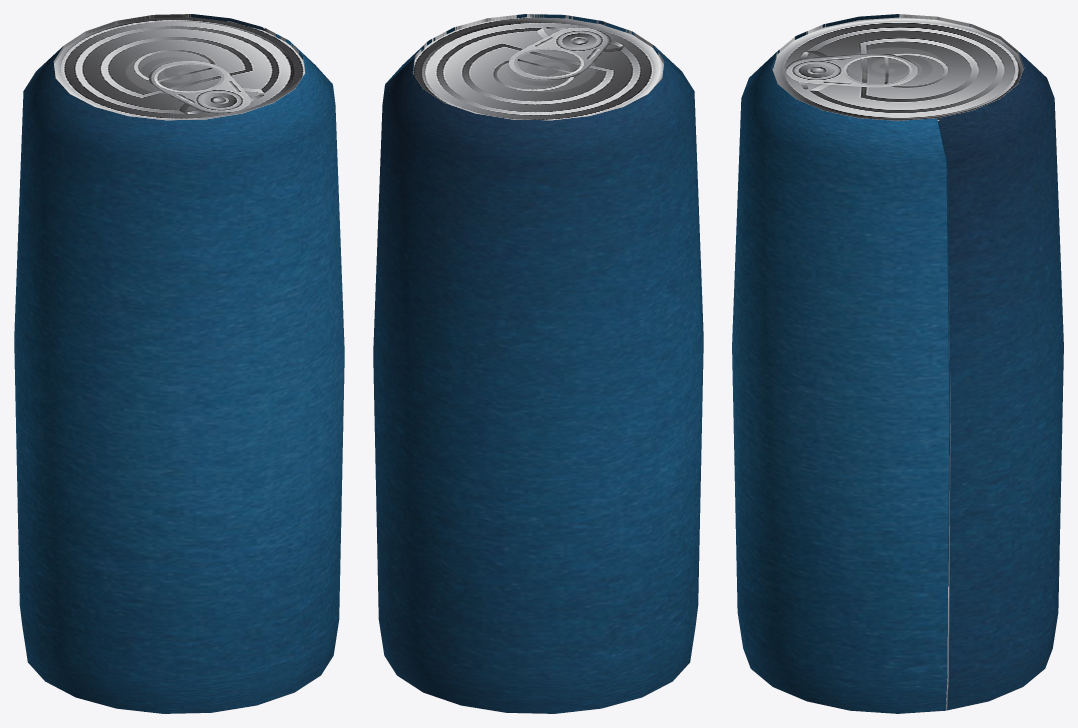
File: CAN.dae
The picture shows the model from 3 angles, left to right: view 1: azimuth 30°, elevation 25°; view 2: azimuth 150°, elevation 25°; view 3: azimuth 270°, elevation 25°; orthographic projection.
Parts seen in each view (by area): view 1: pCylinder1; view 2: pCylinder1; view 3: pCylinder1.
Boxes of the visible parts, bbox=[...] form: pCylinder1: bbox=[14, 14, 344, 713]; pCylinder1: bbox=[373, 14, 703, 713]; pCylinder1: bbox=[732, 14, 1063, 713].
Bounding box in the file's own units: 0.1486 × 0.2868 × 0.1485.
